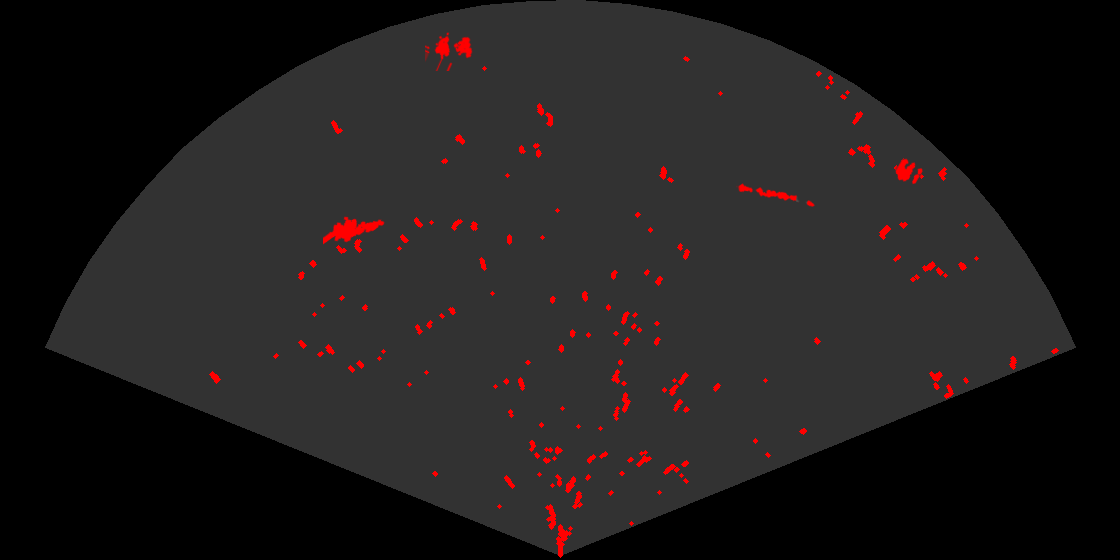ball: (894, 157, 924, 186)
cage: (425, 31, 474, 71)
chain: (736, 182, 817, 208)
frogman: (323, 215, 386, 246)
